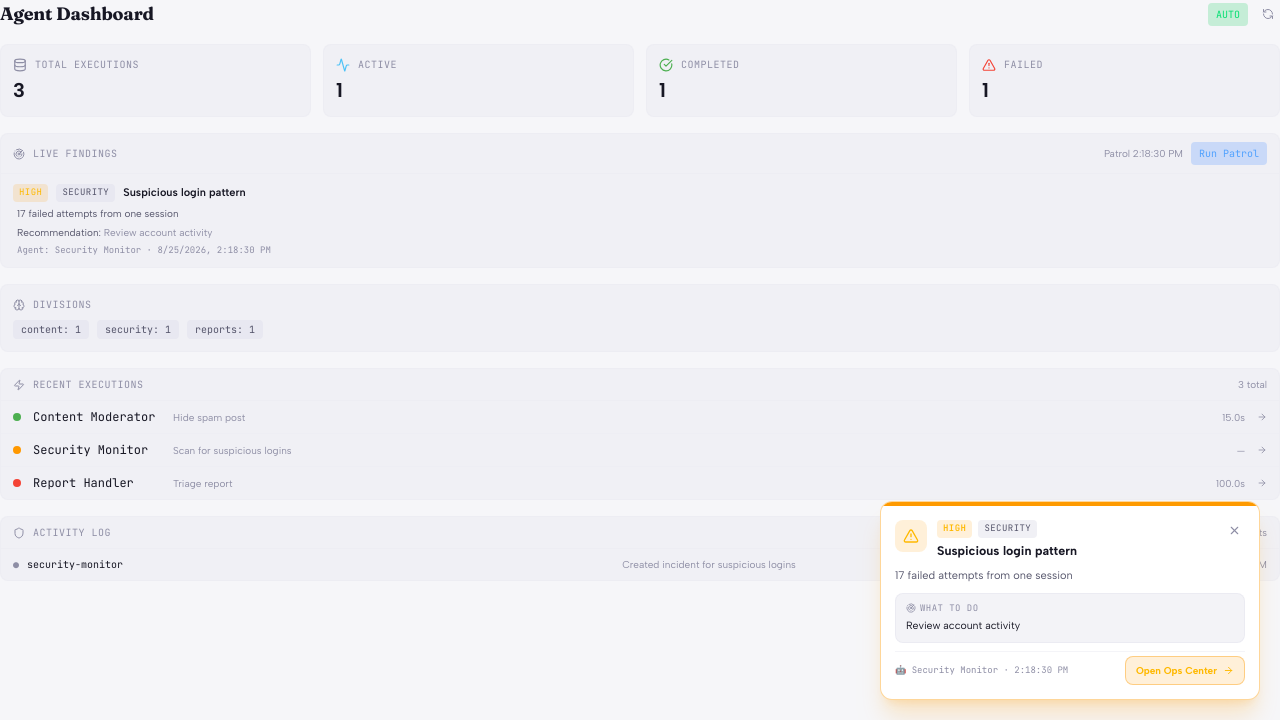
Test: AgentDashboard › expands a completed execution to show structured output
This screenshot has width=1280, height=720.
Click the text "Hide spam post": (209, 417) [173,410,245,424]
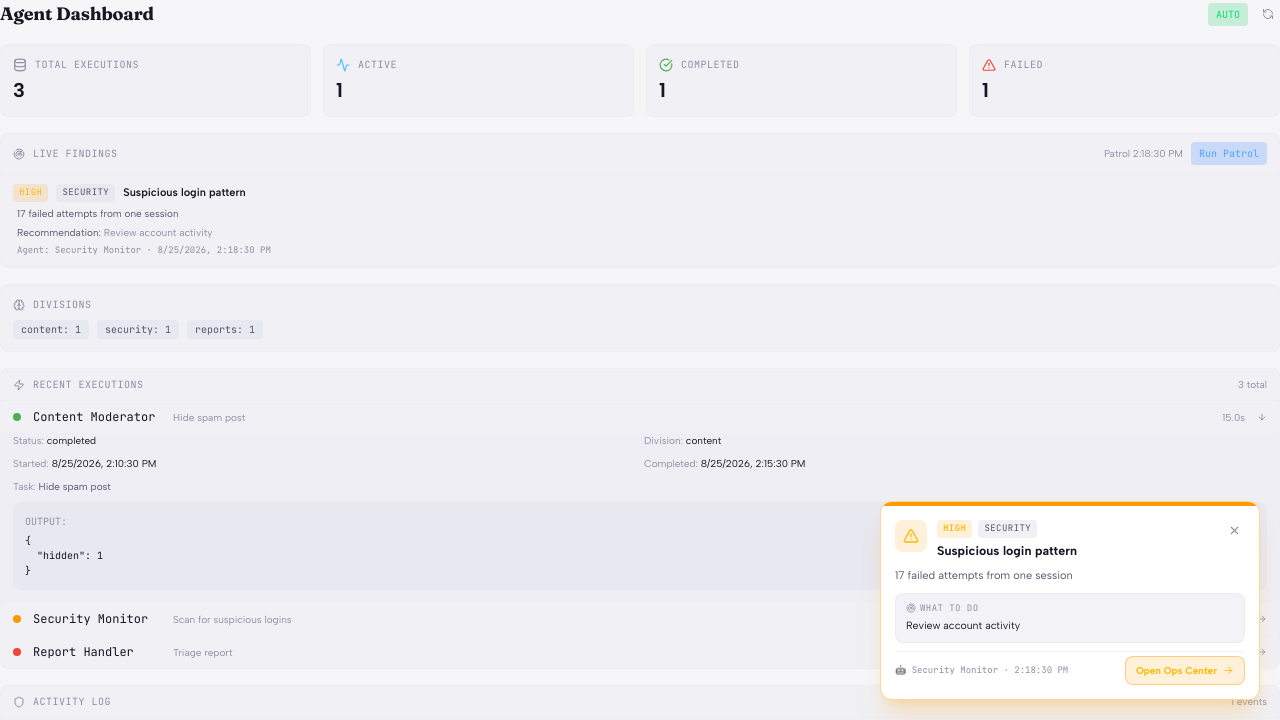
Expected: the text "OUTPUT:" is shown, [25,515,67,528]
Expected: the text "{ \"hidden\": 1 }" is shown, [25,534,103,577]
Expected: the text "Status:" is shown, [13,434,44,447]
